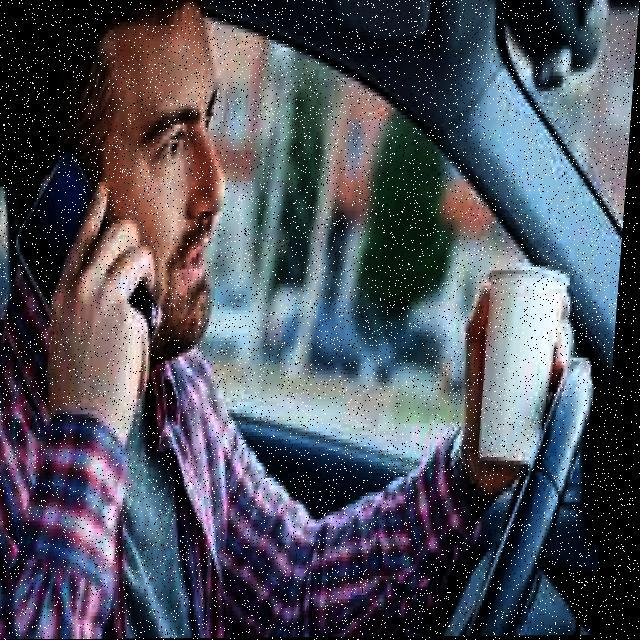noSeatbelt: (0, 242, 297, 640)
